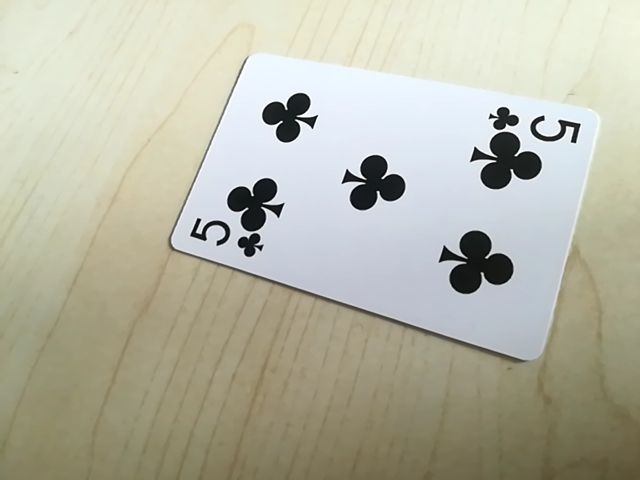mh 5: (182, 218, 269, 259), (485, 105, 582, 141)
